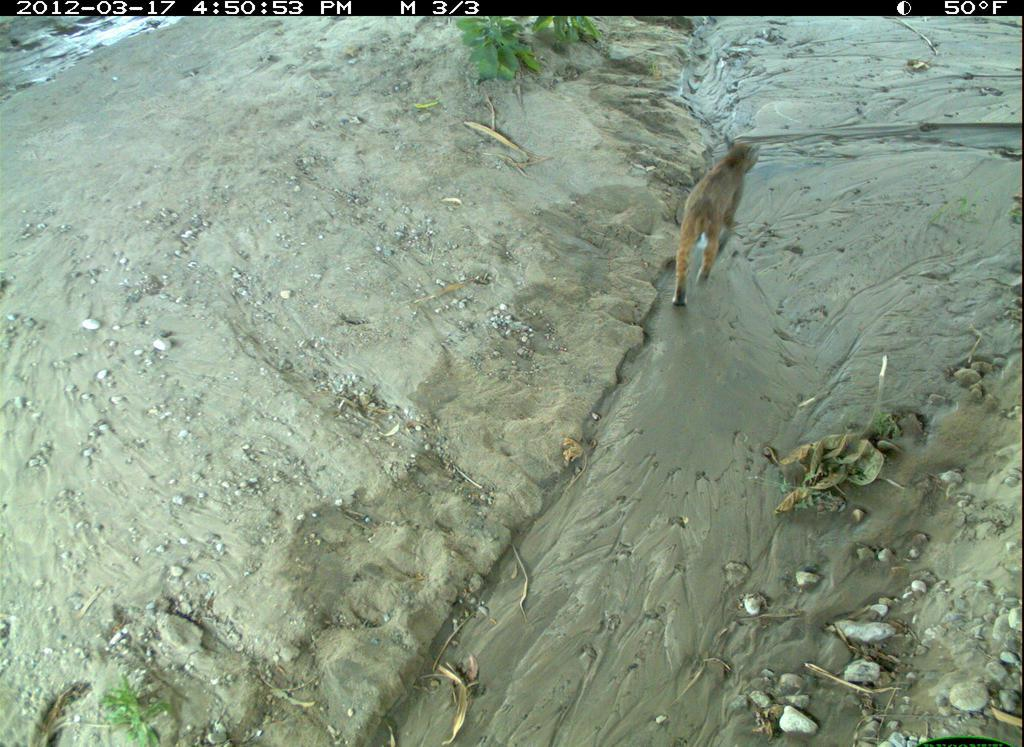bobcat: (667, 134, 766, 312)
